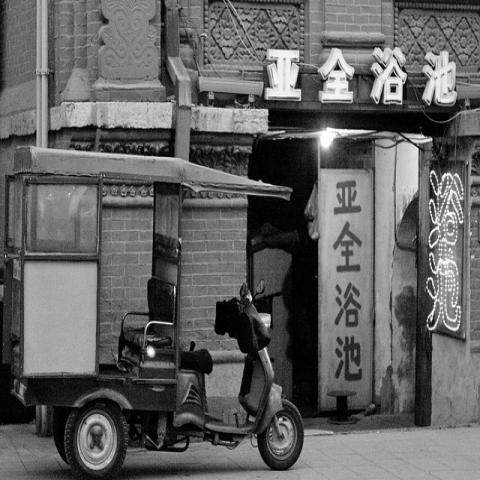motorcycle: (172, 281, 308, 473)
